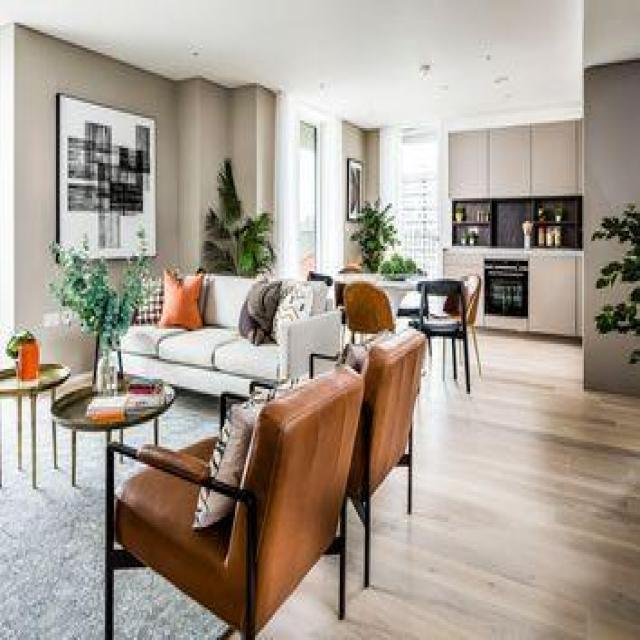Wall: (259, 331, 640, 638), (1, 26, 275, 343), (0, 1, 640, 128), (0, 401, 104, 638), (584, 62, 640, 395), (116, 569, 226, 639), (160, 392, 218, 447), (495, 201, 532, 247), (125, 425, 151, 445)
